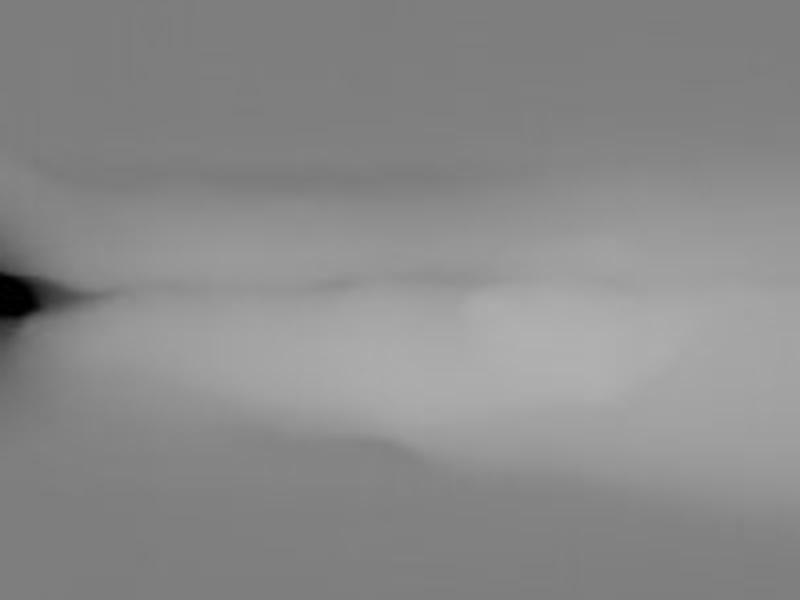defect: (1, 268, 70, 329)
